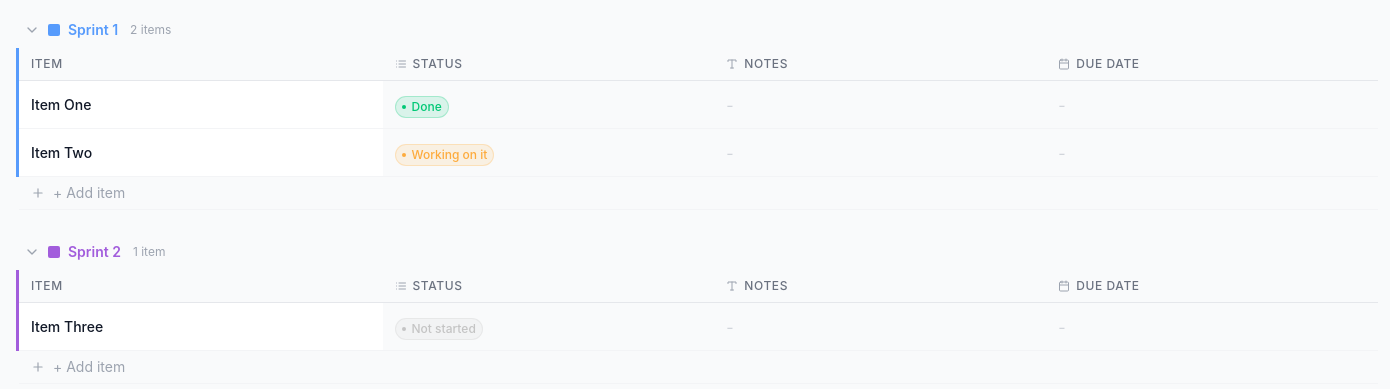
Test: TableView › collapses a group when its header button is clicked
Expected: the text "Item One" is shown, [18,80,382,128]
Click the button "Sprint 1 2 items": (93, 30) [12,12,1378,48]
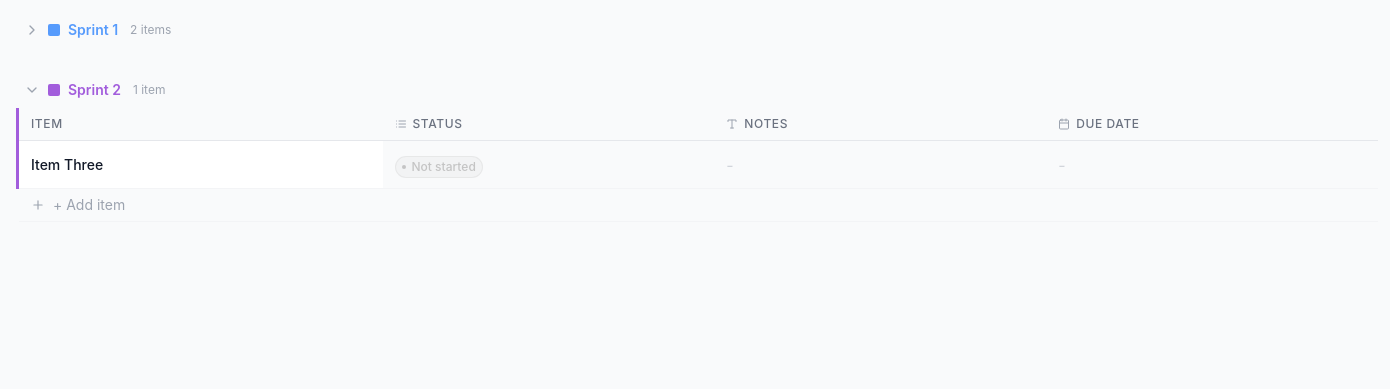
Expected: the text "Item Three" is shown, [18,140,382,188]
Expected: the text "Item One" is gone
Expected: the text "Item Two" is gone
